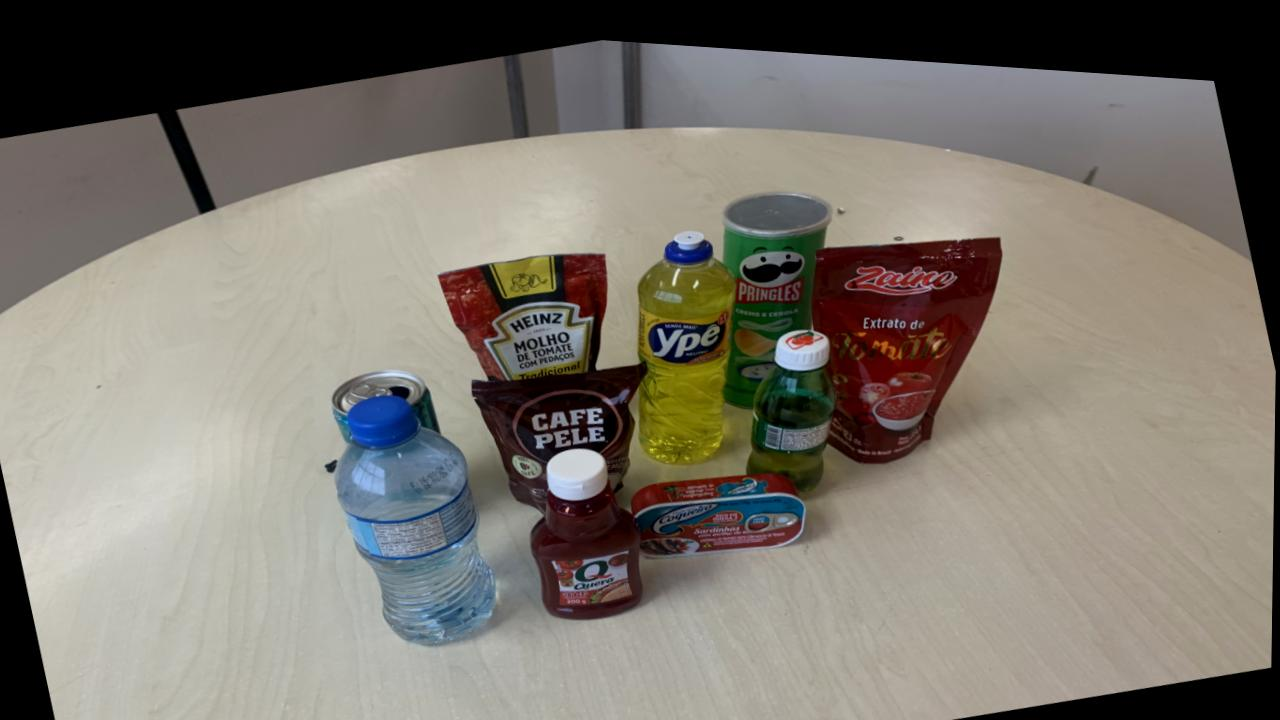Coffee-Pantry_Items: (472, 354, 647, 504)
Detergent-Cleanup_Items: (638, 221, 737, 454)
Guarana-Drinks: (746, 317, 836, 479), (746, 354, 836, 480)
Ketchup-Pantry_Items: (531, 440, 644, 611)
Pringles-Snacks: (722, 179, 833, 397)
Tea-Drinks: (332, 363, 441, 437)
Tomato_Sauce-Pantry_Items: (812, 222, 1003, 450), (439, 244, 608, 373)
Tuna_Can-Pantry_Items: (632, 461, 807, 549)
Water_Bottle-Drinks: (336, 389, 497, 638)
